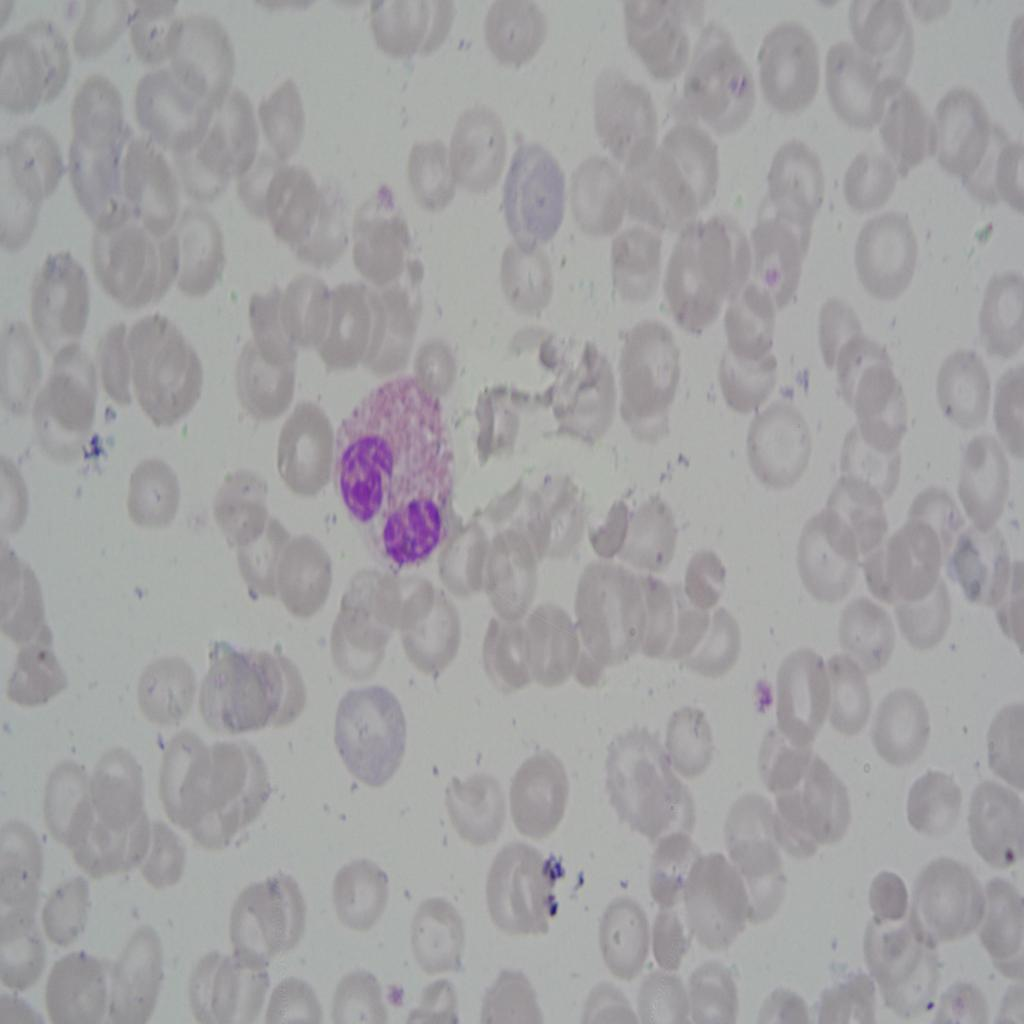Eosinofil: (330, 364, 453, 580)
Platelet: (543, 856, 578, 891), (749, 672, 774, 716), (535, 883, 560, 922), (384, 968, 408, 1006)
